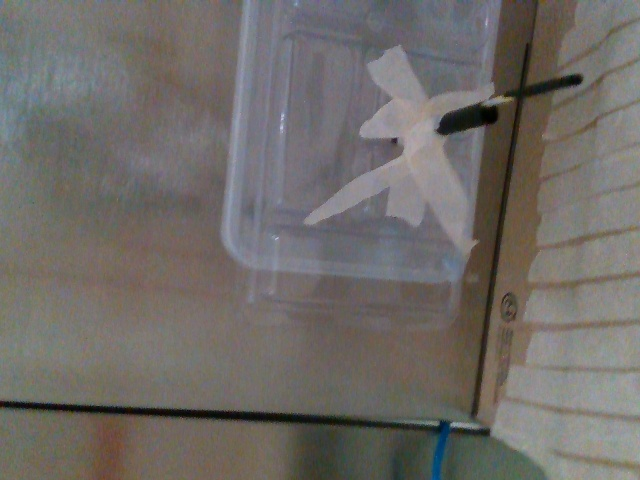test_strip: (478, 72, 581, 105)
